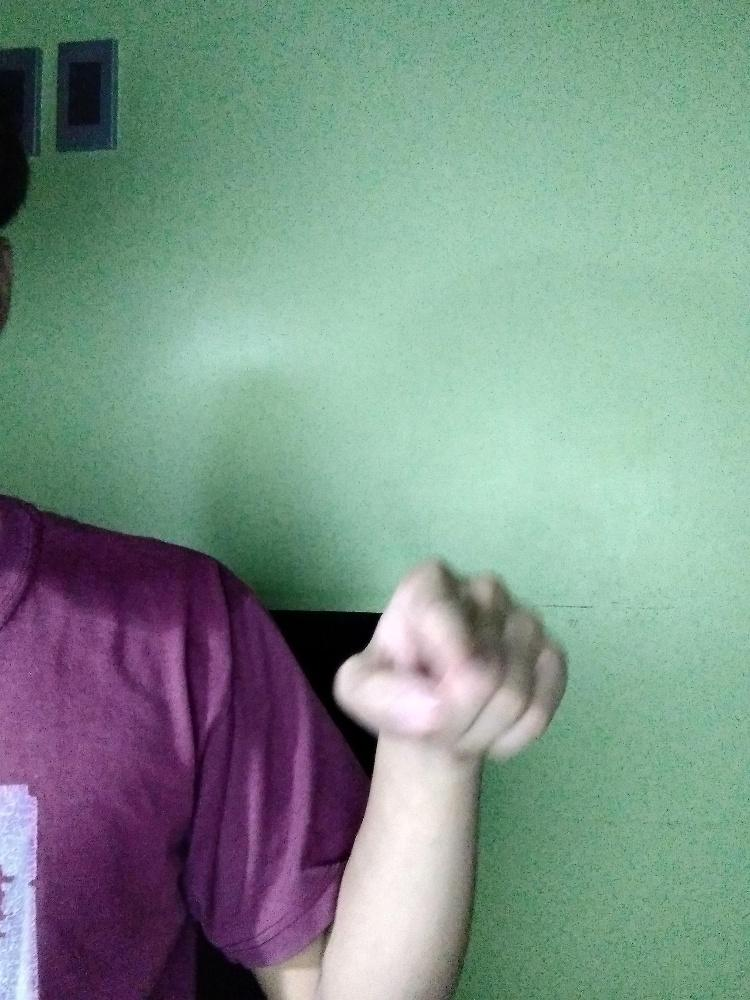z: (328, 550, 569, 768)
